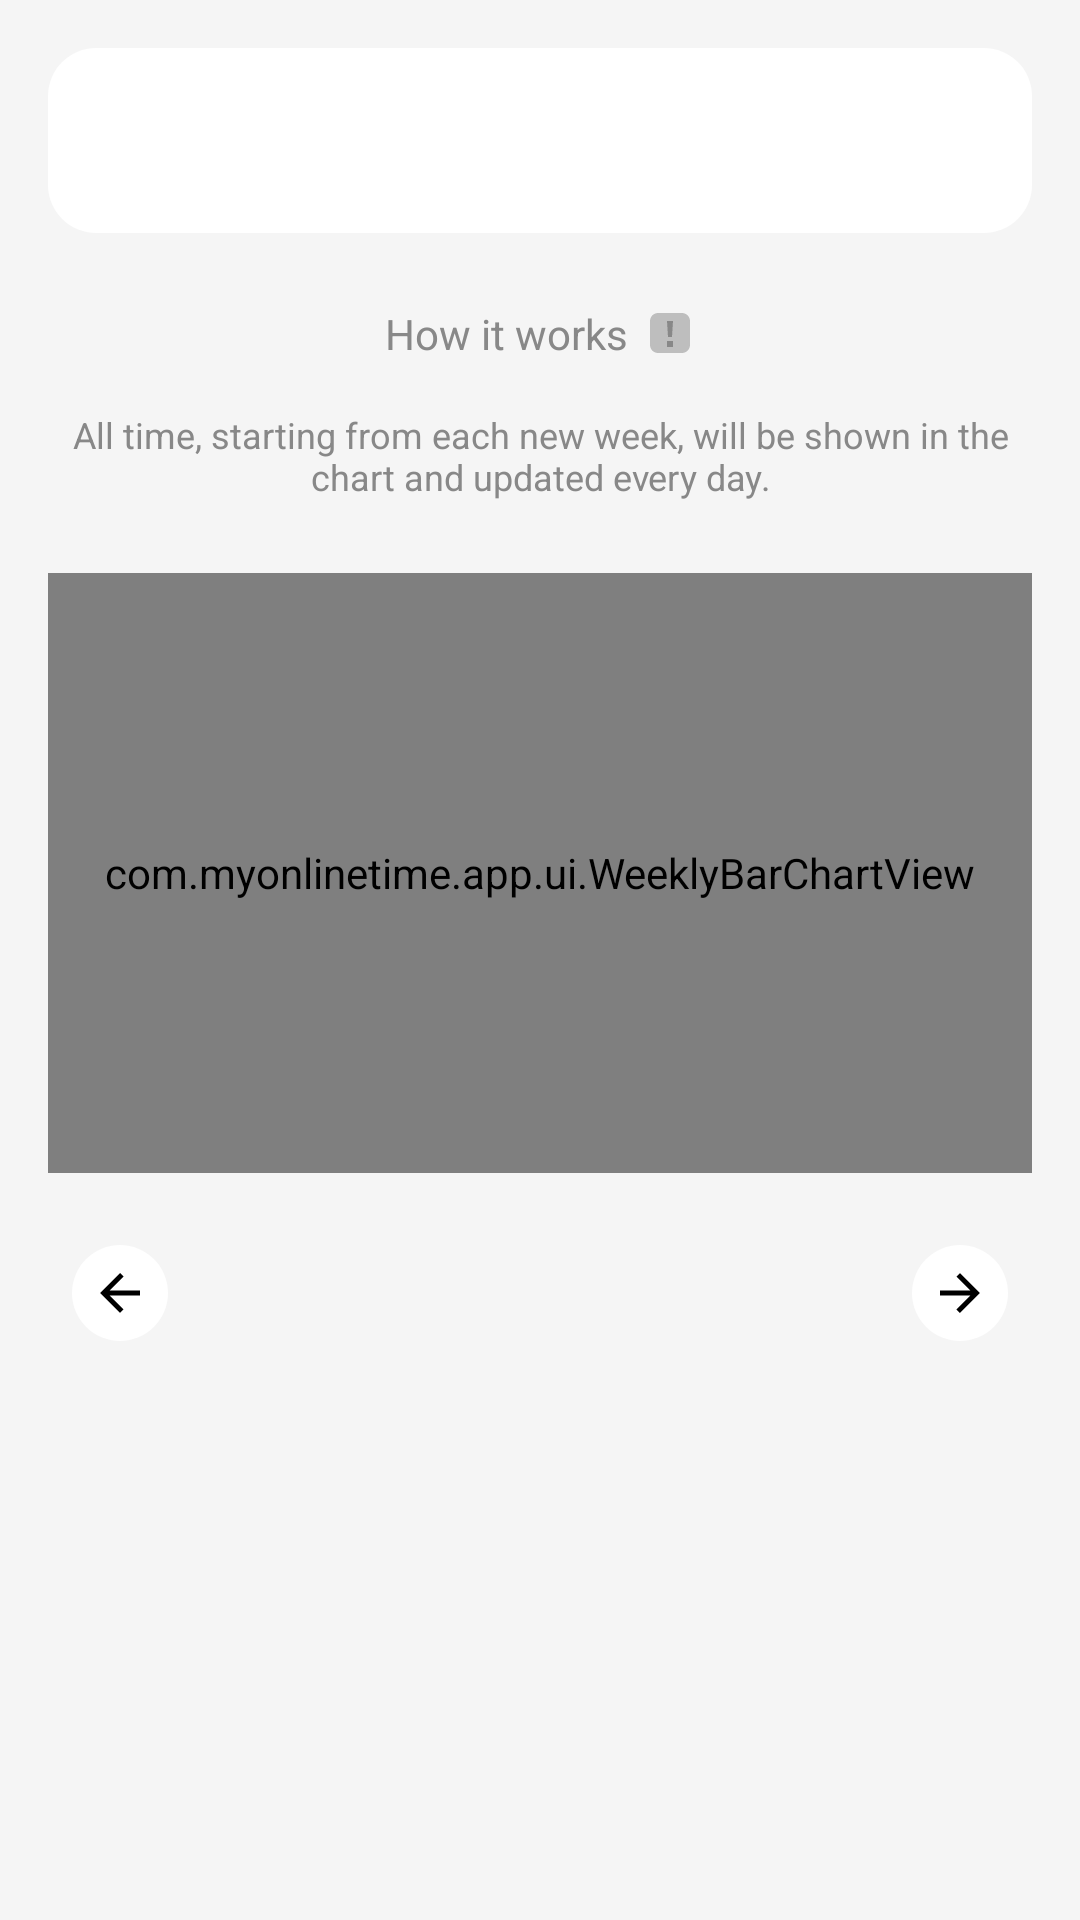

Icons on this 1080×1920 Android screen, each with its box as Rect(x1, y1, x2, y2):
hidden exclamation: Rect(650, 313, 690, 353)
